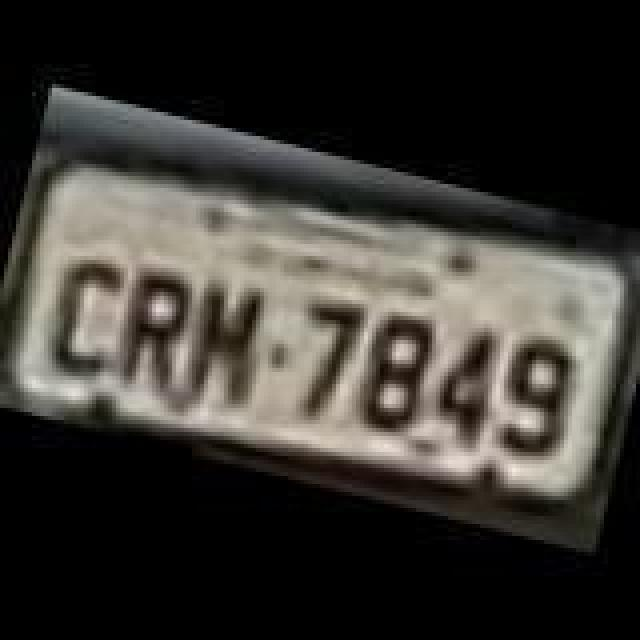4: (420, 320, 508, 456)
7: (274, 294, 366, 426)
8: (354, 306, 446, 438)
9: (490, 328, 582, 464)
C: (38, 254, 138, 386)
M: (174, 274, 274, 414)
R: (110, 268, 202, 404)
